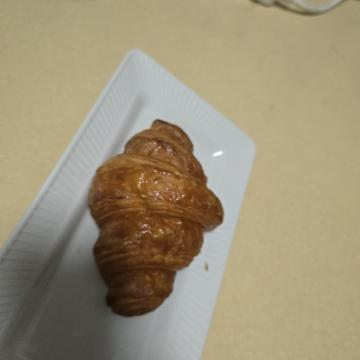croissant: (106, 129, 325, 280)
